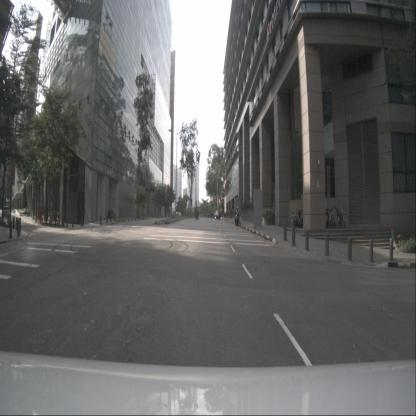human-pedestrian-adult: (194, 206, 199, 220), (53, 208, 56, 221), (57, 210, 60, 221), (223, 210, 225, 218), (222, 210, 223, 218)
vehicle-car: (3, 205, 10, 217), (214, 210, 222, 220), (176, 212, 181, 219)
vehicle-motorcycle: (235, 206, 240, 226)
